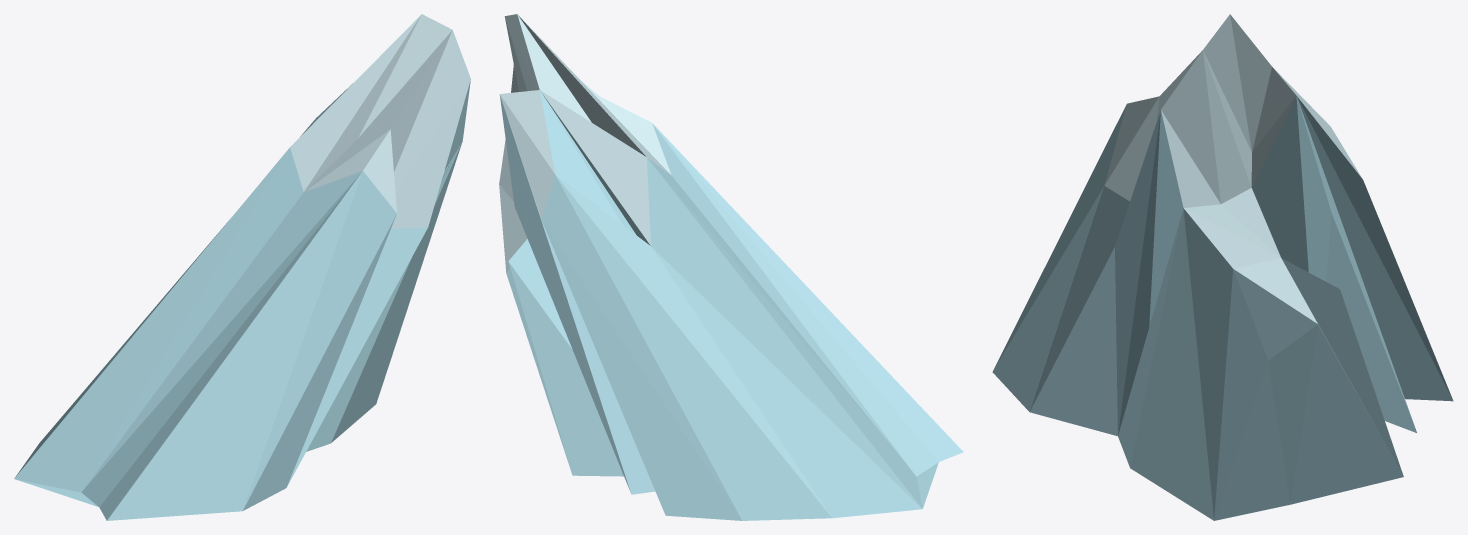
File: sharp_rock_2.fbx
3 views of the same model, side by side, from view 1: azimuth 30°, elevation 25°; view 2: azimuth 150°, elevation 25°; view 3: azimuth 270°, elevation 25° (orthographic). The views are drawn at different scales.
Parts seen in each view (by area): view 1: sharp_rock_2; view 2: sharp_rock_2; view 3: sharp_rock_2.
Boxes of the visible parts, box(x1,y1,x2,y2) form: sharp_rock_2: box(14, 14, 470, 520); sharp_rock_2: box(499, 14, 963, 520); sharp_rock_2: box(992, 14, 1453, 520).
Bounding box in the file's own units: 447 × 376 × 289.
